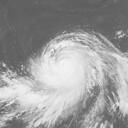cyclone: (22, 27, 114, 121)
